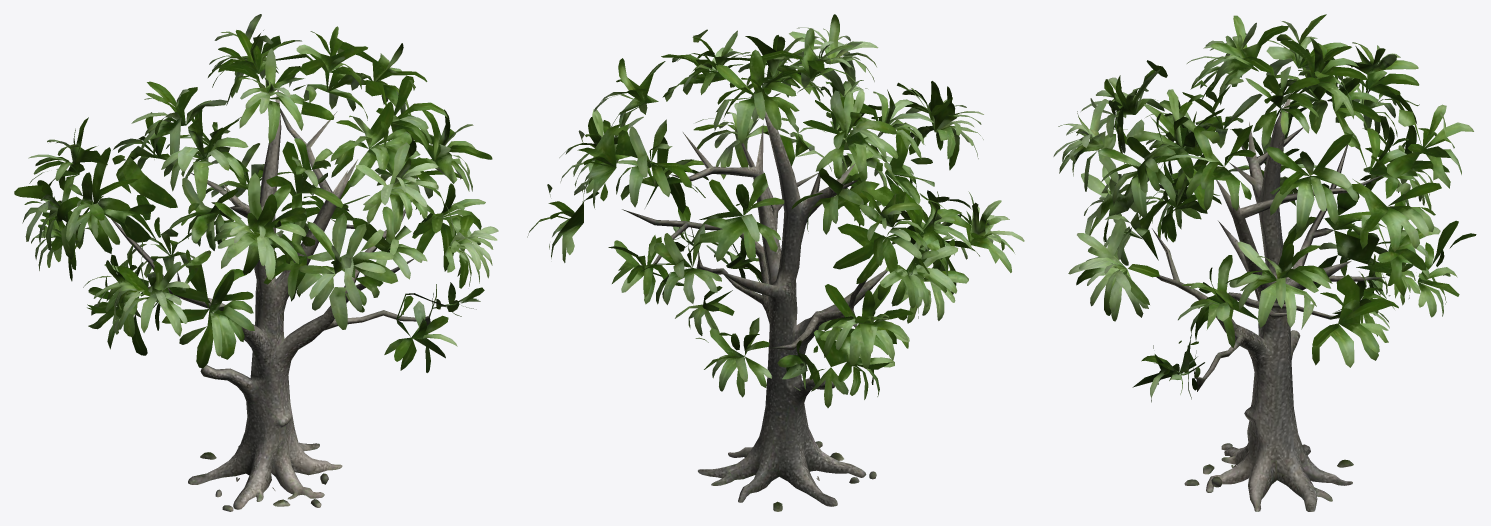
The model's file is pungai.glb.
3 views of the same model, side by side, from view 1: azimuth 30°, elevation 25°; view 2: azimuth 150°, elevation 25°; view 3: azimuth 270°, elevation 25° (orthographic). The views are drawn at different scales.
Parts seen in each view (by area): view 1: tripo_node_c390eaad-2415-4498-9ae7-a7abe5c7fb68; view 2: tripo_node_c390eaad-2415-4498-9ae7-a7abe5c7fb68; view 3: tripo_node_c390eaad-2415-4498-9ae7-a7abe5c7fb68.
Part boxes in pixels (bbox=[...]): tripo_node_c390eaad-2415-4498-9ae7-a7abe5c7fb68: bbox=[14, 14, 498, 511]; tripo_node_c390eaad-2415-4498-9ae7-a7abe5c7fb68: bbox=[527, 14, 1024, 511]; tripo_node_c390eaad-2415-4498-9ae7-a7abe5c7fb68: bbox=[1053, 14, 1476, 511].
Bounding box in the file's own units: 8.5 × 8.5 × 7.14.
1 material, 1 textured.
